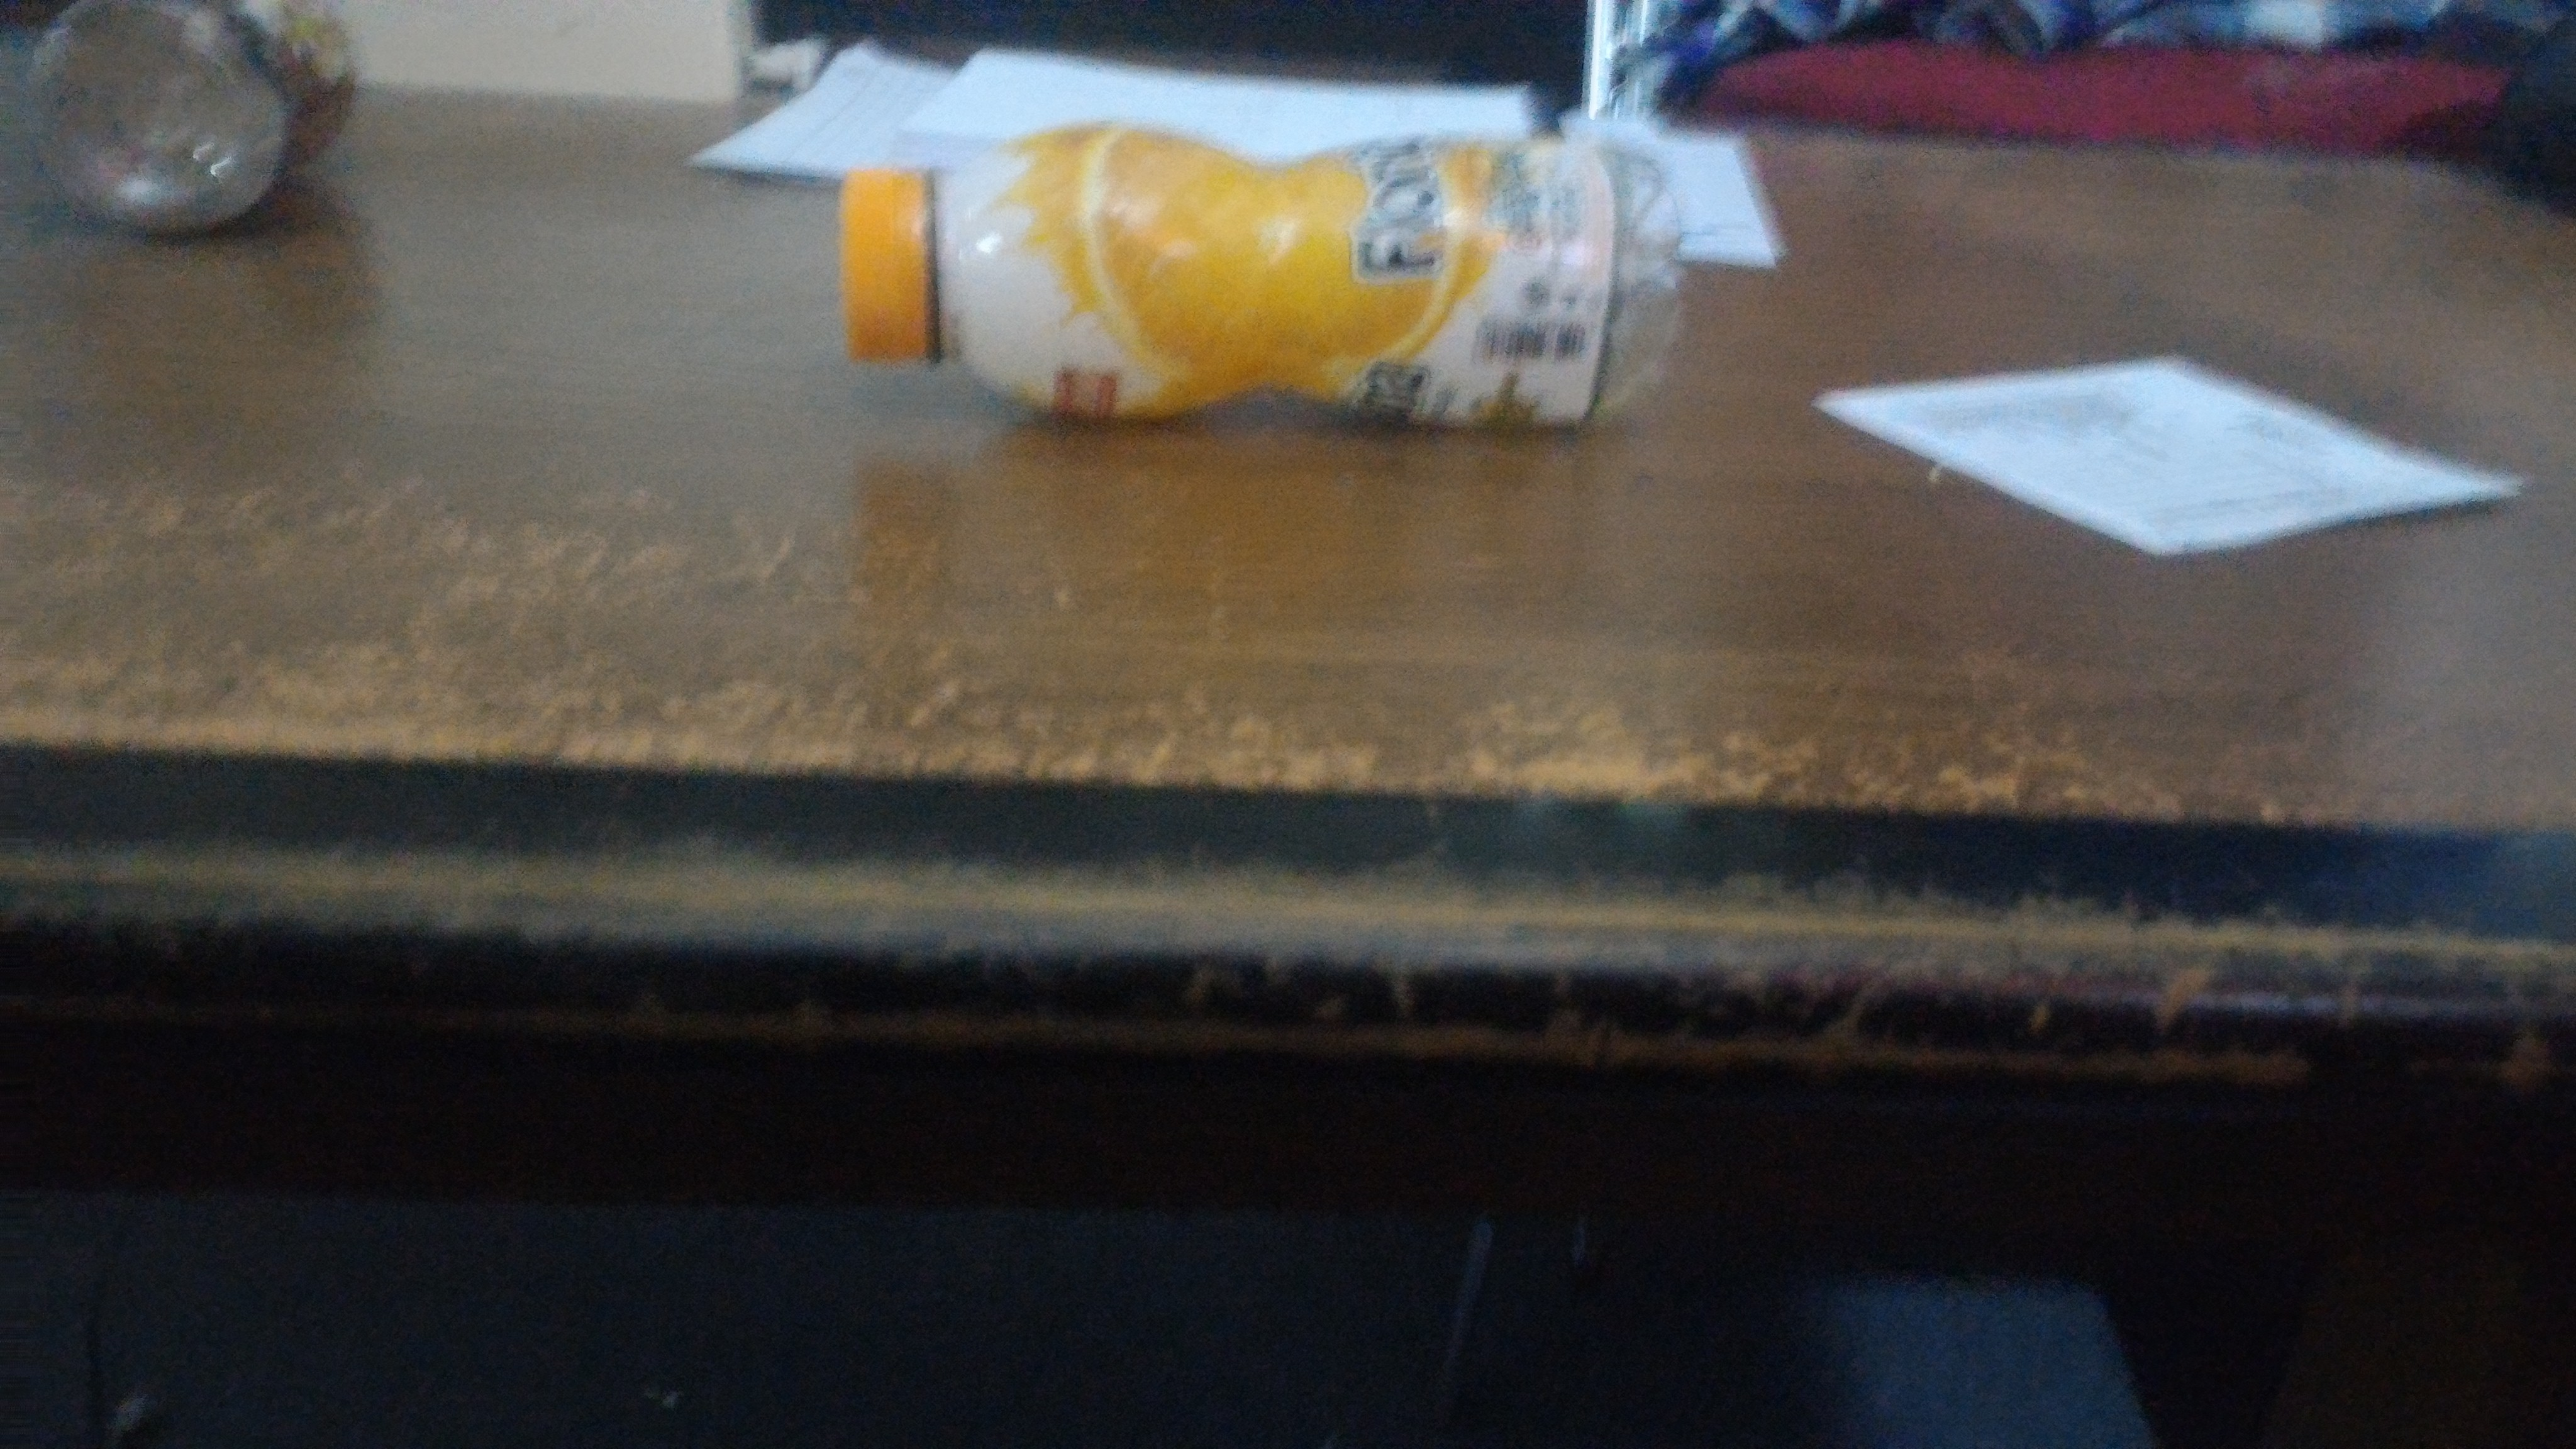botol: (840, 119, 1686, 433), (840, 124, 1686, 433), (840, 145, 1686, 433)
